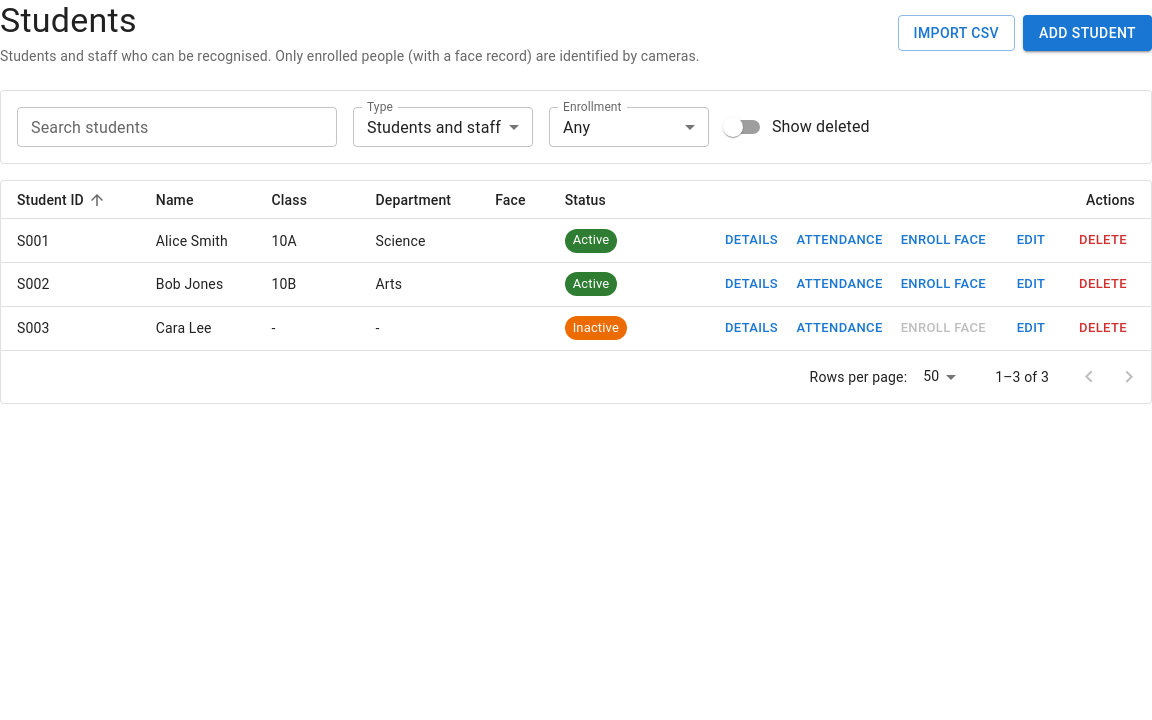
Test case: add and edit › adds a student; blank optional fields are sent as null
Check: the table named "Students" is shown, box [1,181,1151,350]
Click the button "Add student": click(1088, 33) [1023,15,1151,51]
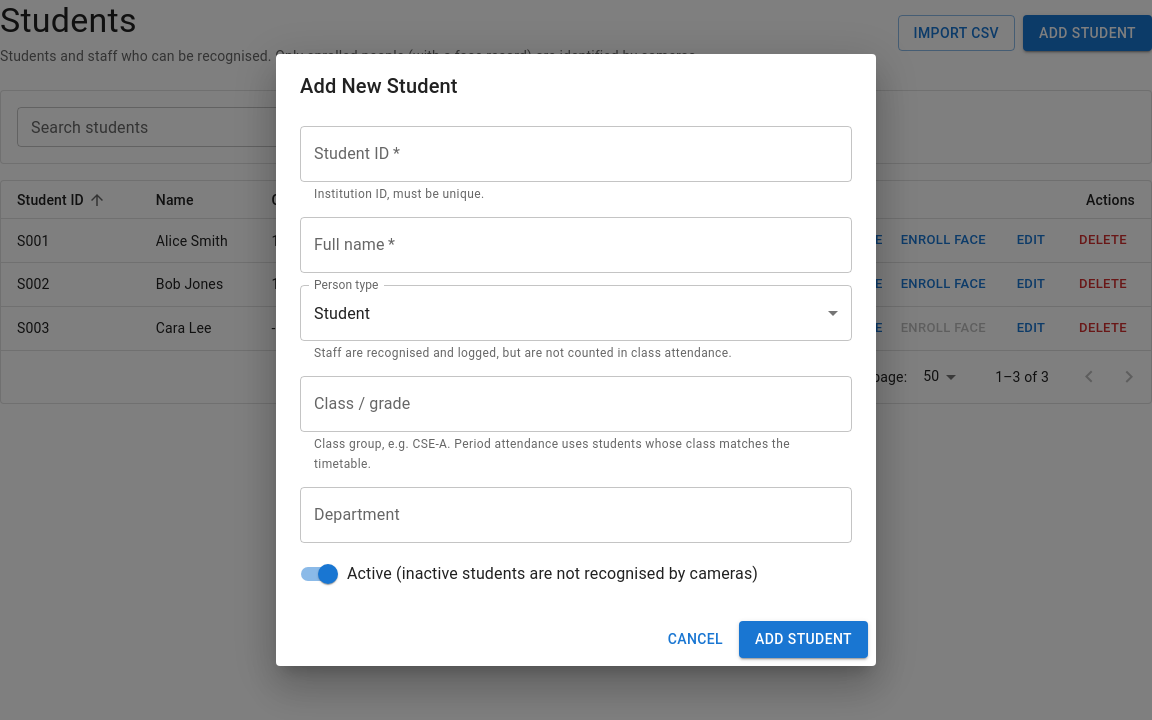
In the field labelled "Student ID *": (576, 154) [300,126,852,182], type " S009 "
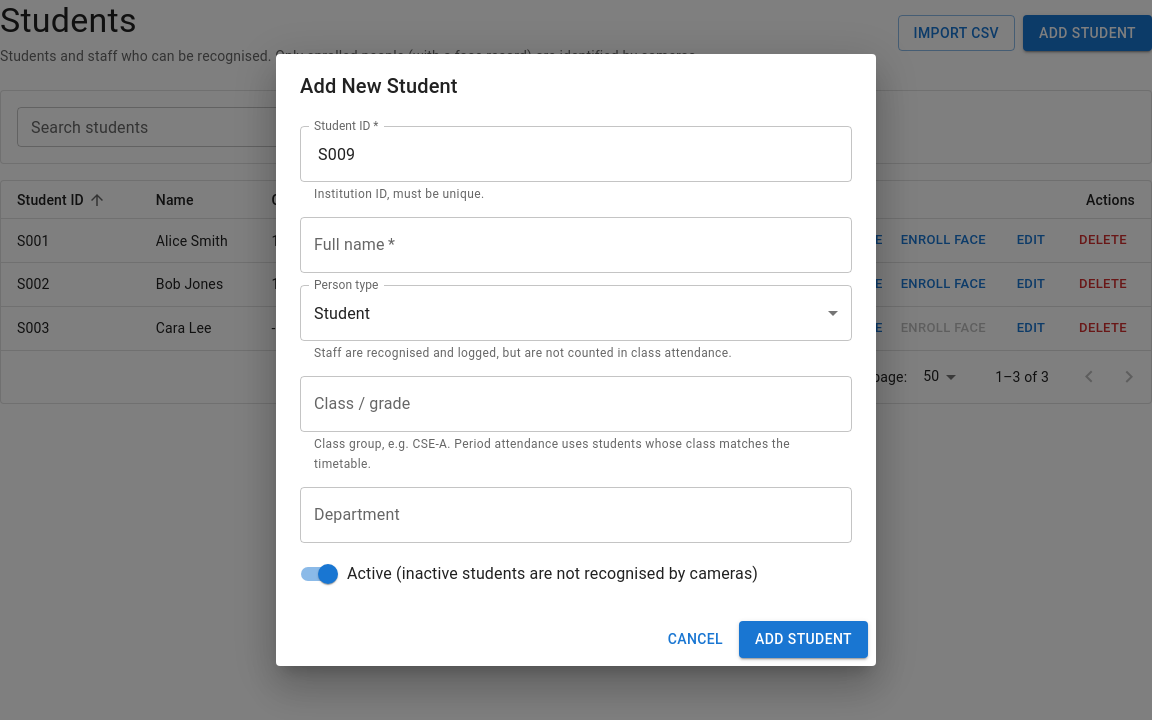
In the field labelled "Full name *": (576, 245) [300,217,852,273], type "Eve New"
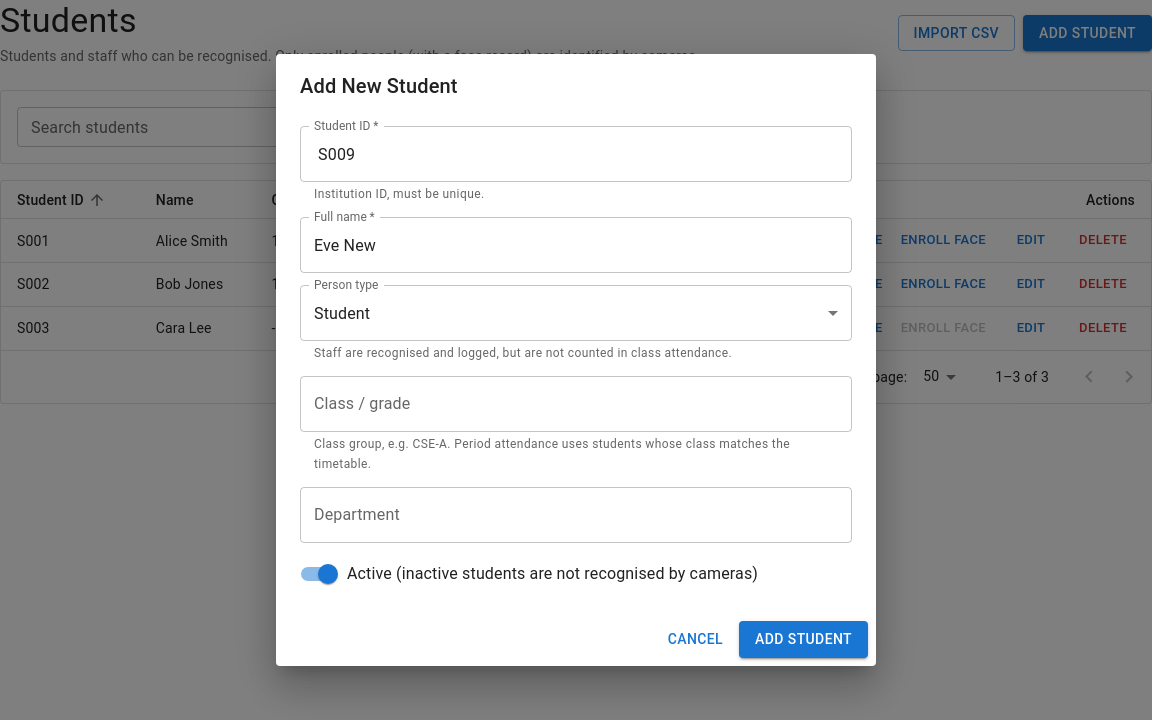
Click the button "Add student": click(804, 639) [739,621,868,658]
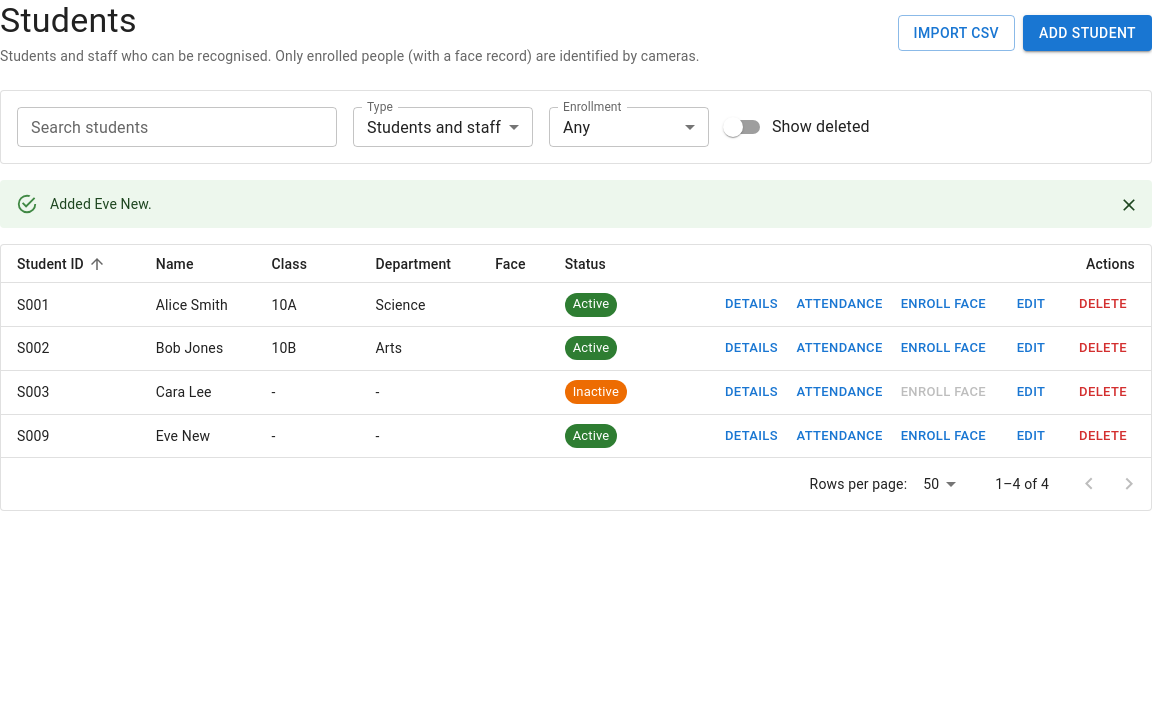
Check: the dialog is gone
Check: the text "Added Eve New." is shown, box [50,196,152,212]
